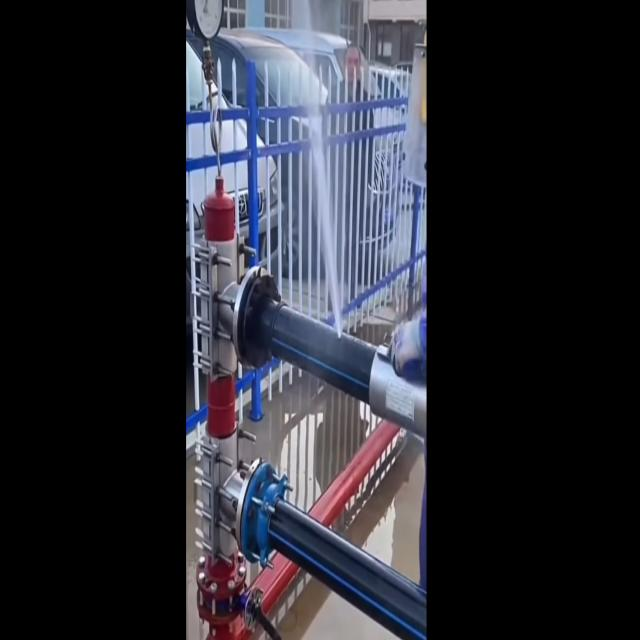leak: (309, 116, 342, 336)
